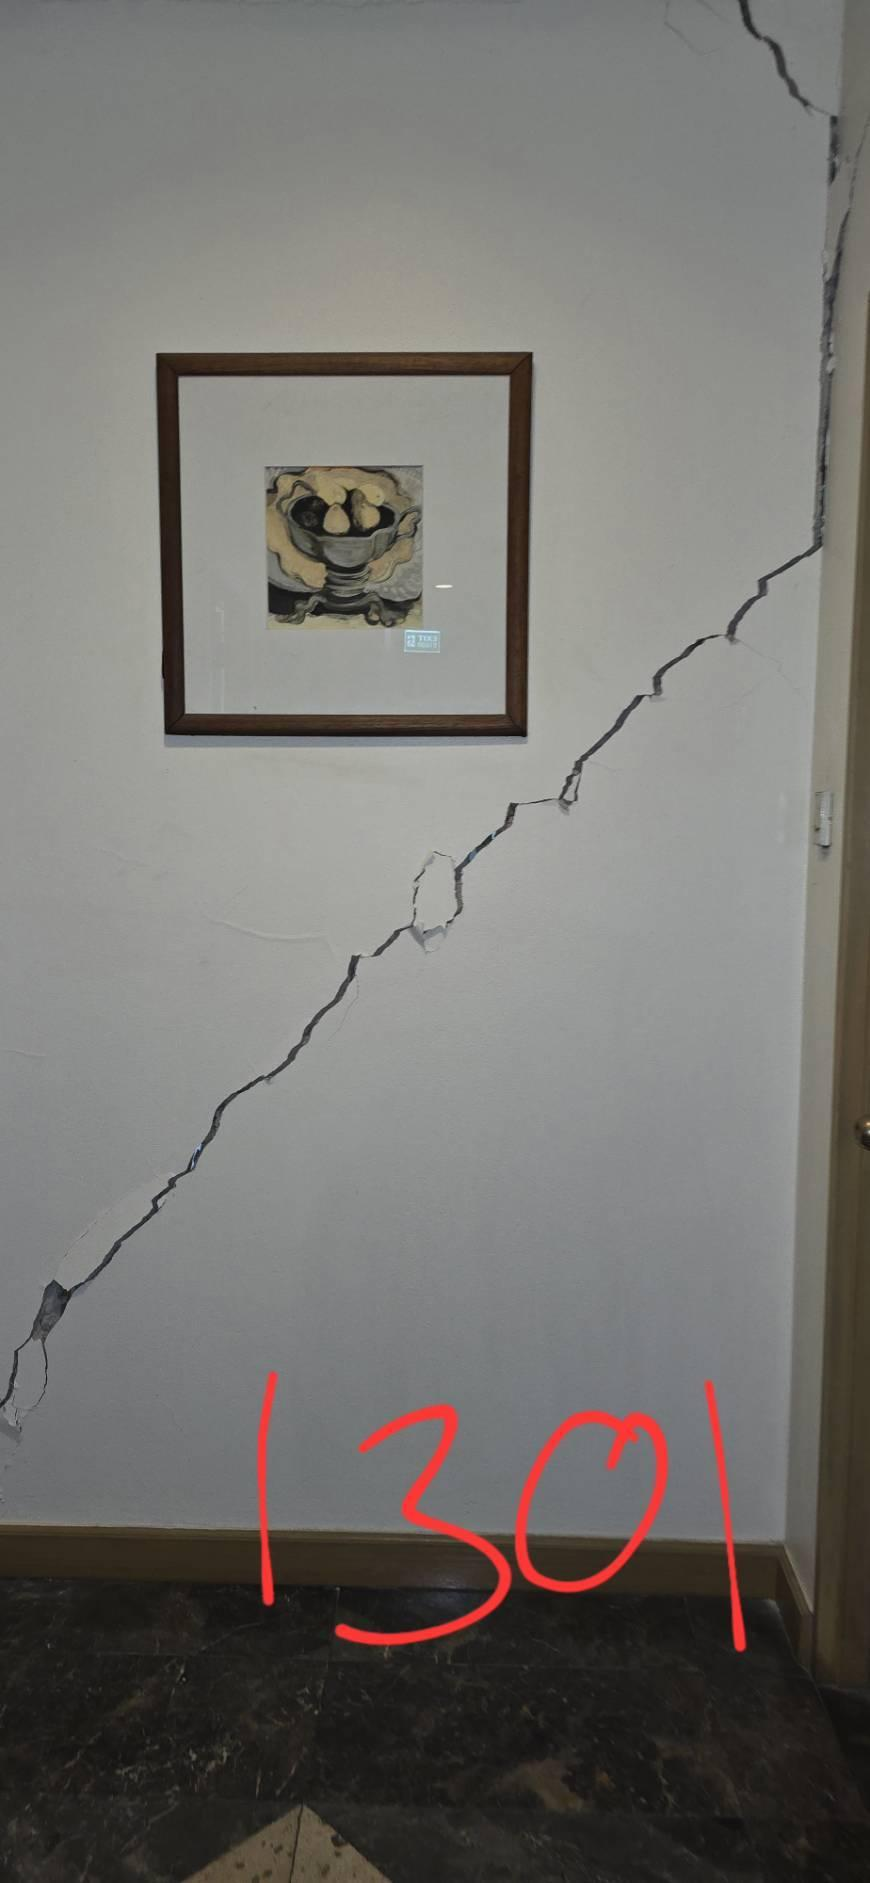High: (2, 4, 860, 1381)
